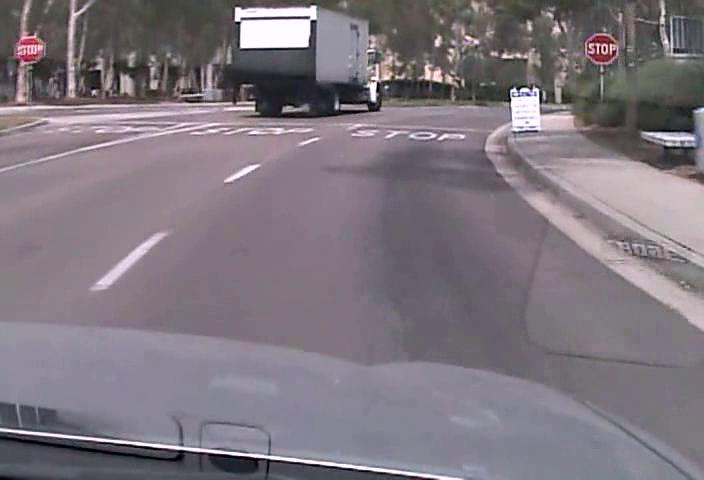stop: (13, 35, 45, 64)
